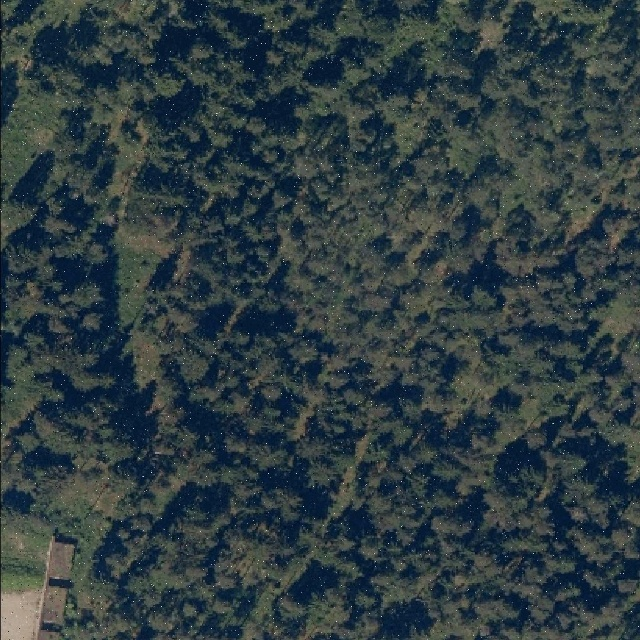vegetation: (1, 1, 640, 640)
